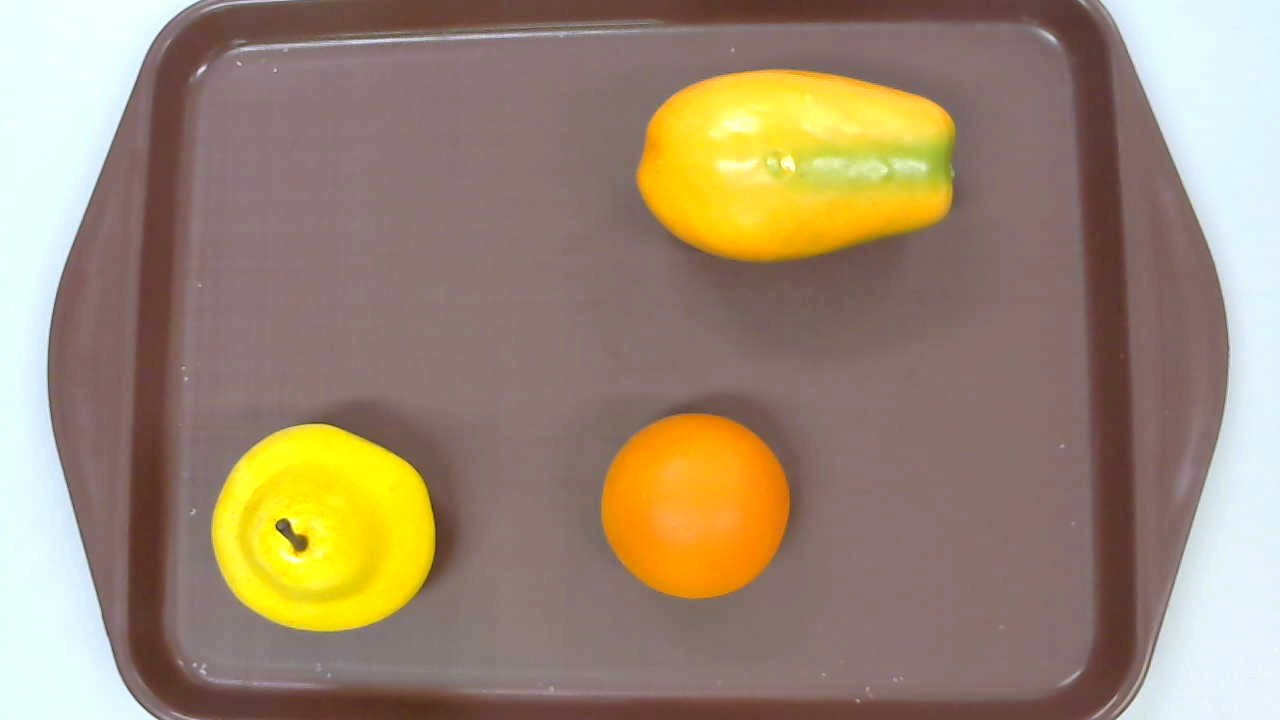bun: (599, 412, 789, 600)
papya: (635, 67, 954, 265)
yellow pear: (210, 422, 437, 634)
